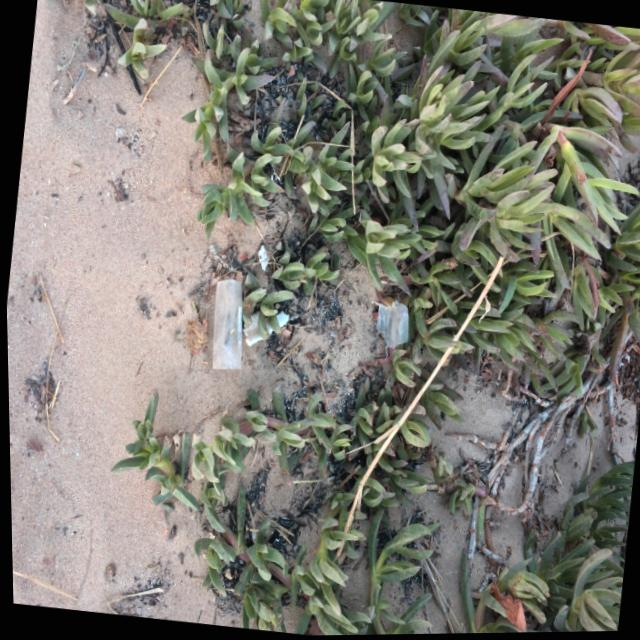Paper: (232, 302, 292, 356)
Plastic: (200, 270, 254, 376), (361, 293, 414, 365)
